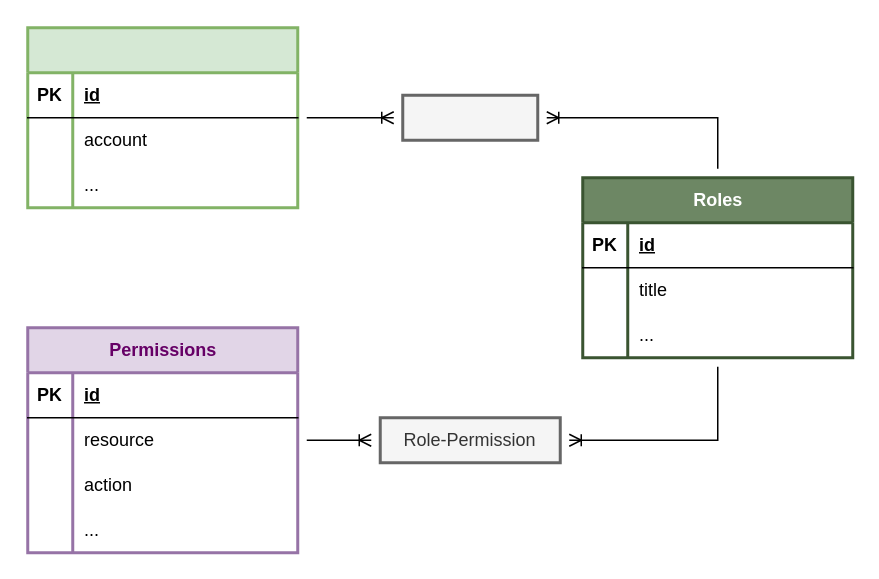
Some shapes in this 879 by 579 pixel diagram are drawn without their labels. The shapes that lost their labels are listed below. From the top down, each one's box as (x1, y1, x2, y2) in pixels, then its label:
(26, 26, 298, 208): Users
(400, 93, 538, 141): User-Role
